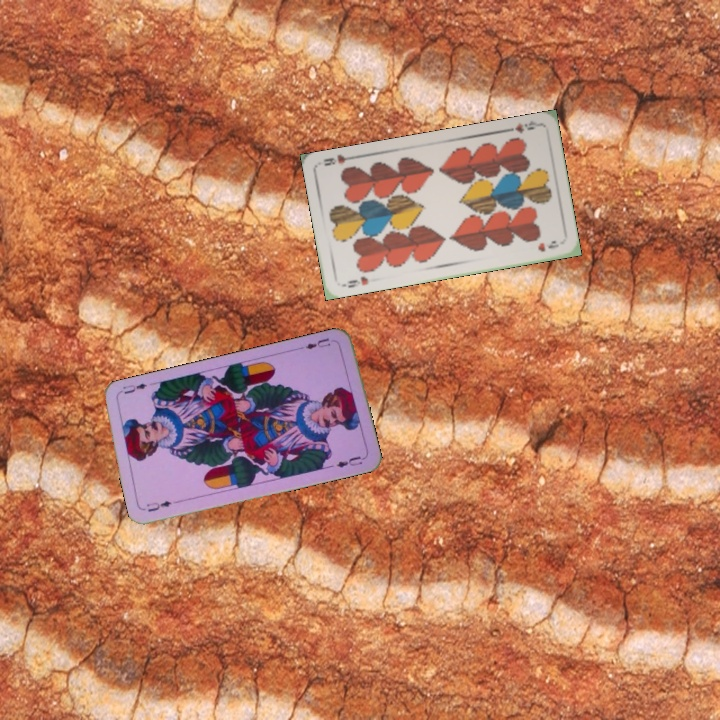EU: (297, 334, 337, 352), (142, 496, 182, 514)
H9: (502, 117, 542, 136), (344, 272, 371, 290)
